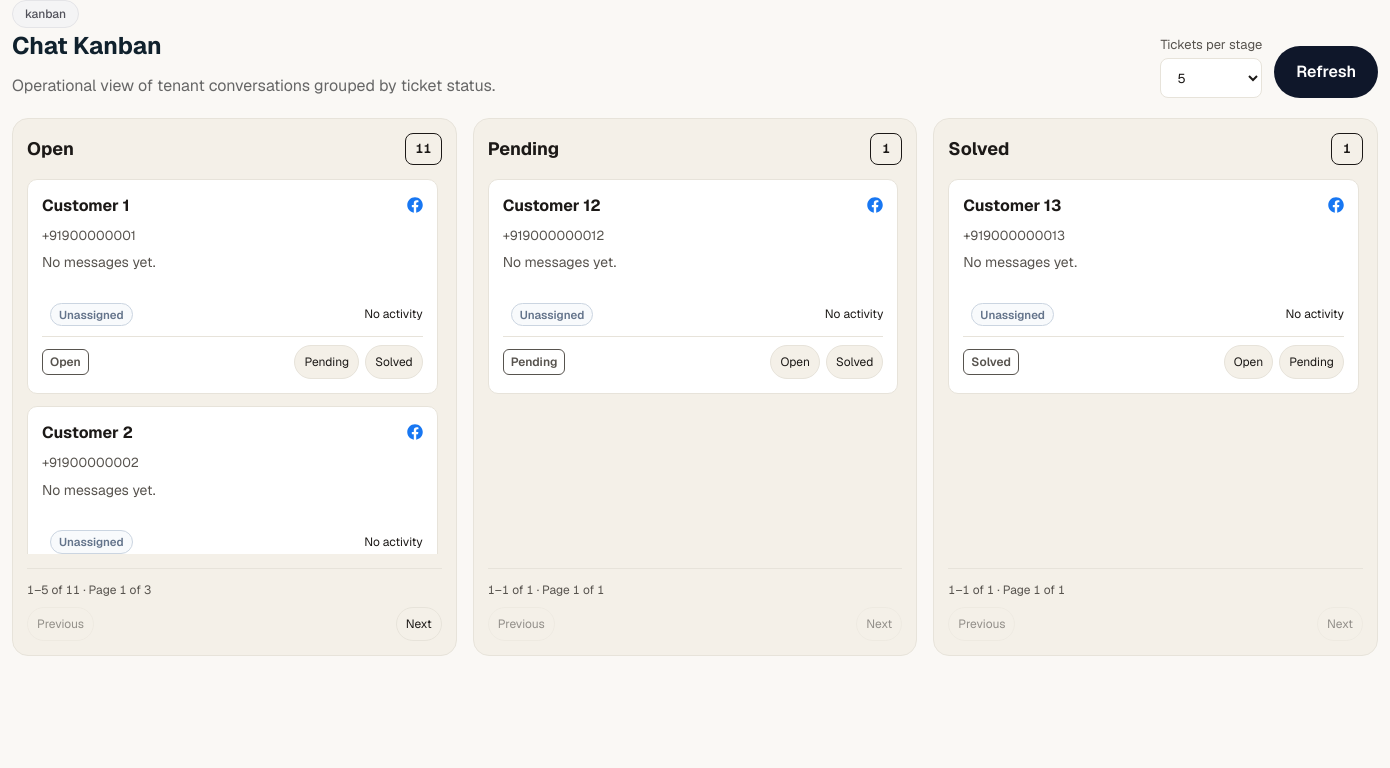
Test case: moving the last ticket clamps an emptied final page and keeps the complete order
Expected: the text "Customer 1" is shown, x1=42 y1=194 x2=130 y2=218
Click the button with aria-label "Open next page": coordinates (419, 624) x1=396 y1=607 x2=442 y2=641
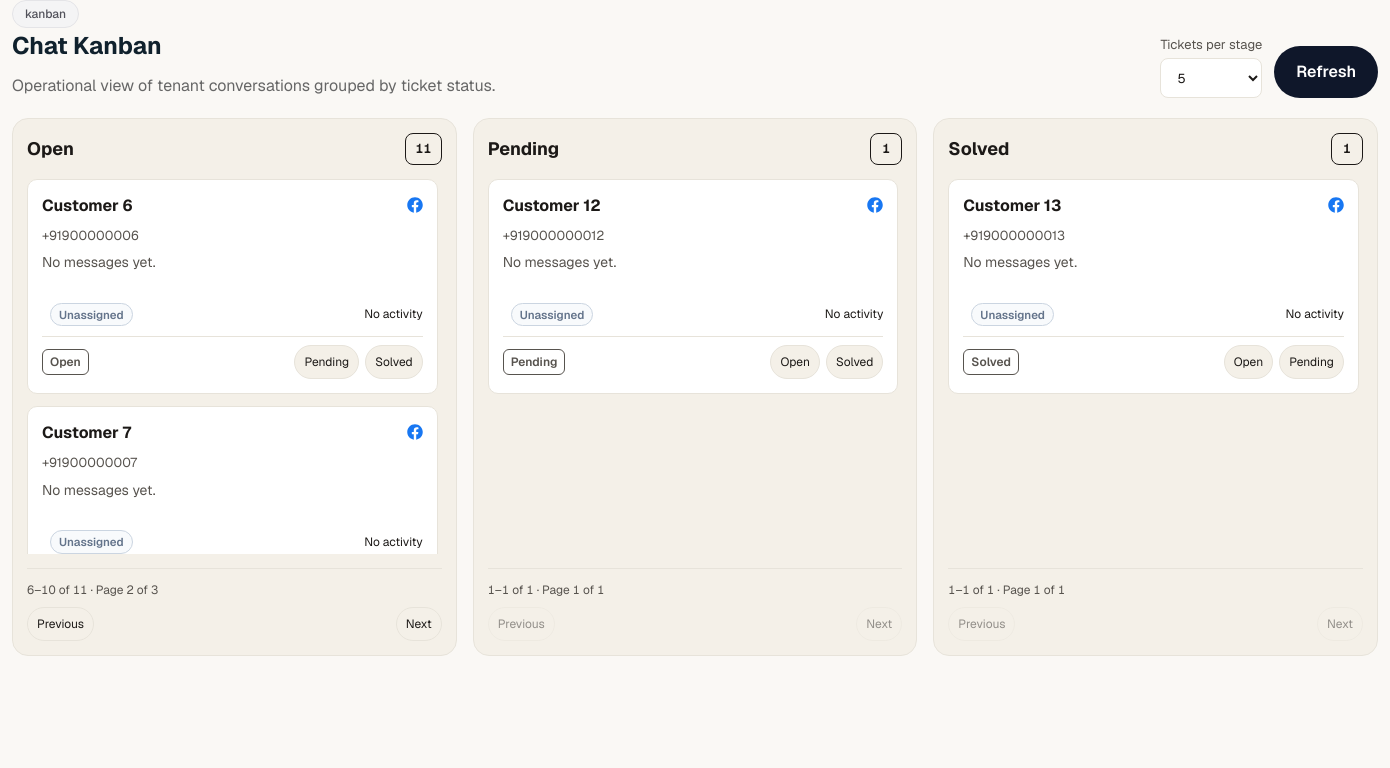
Click the button with aria-label "Open next page": coordinates (419, 624) x1=396 y1=607 x2=442 y2=641
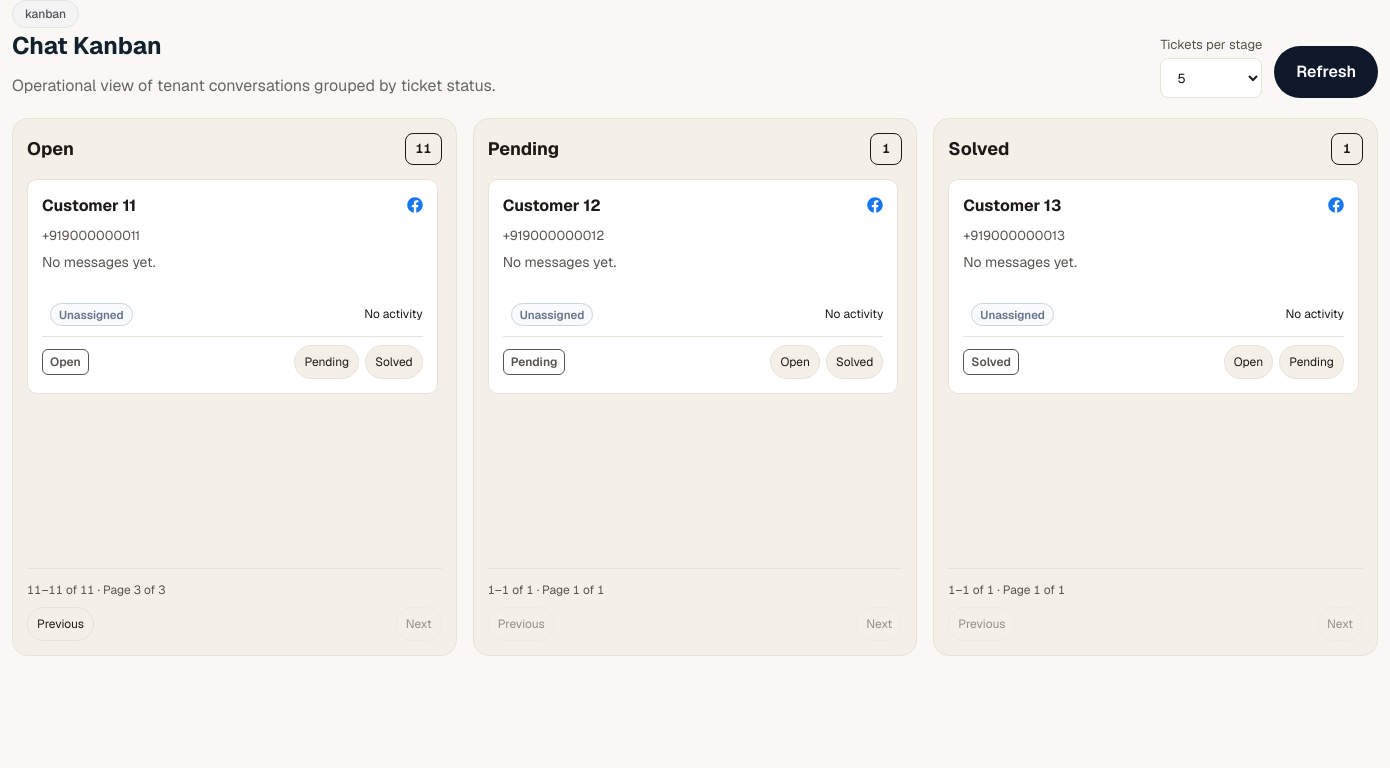
Click the button with aria-label "Move Customer 11 to Solved": coordinates (394, 362) x1=365 y1=345 x2=423 y2=379
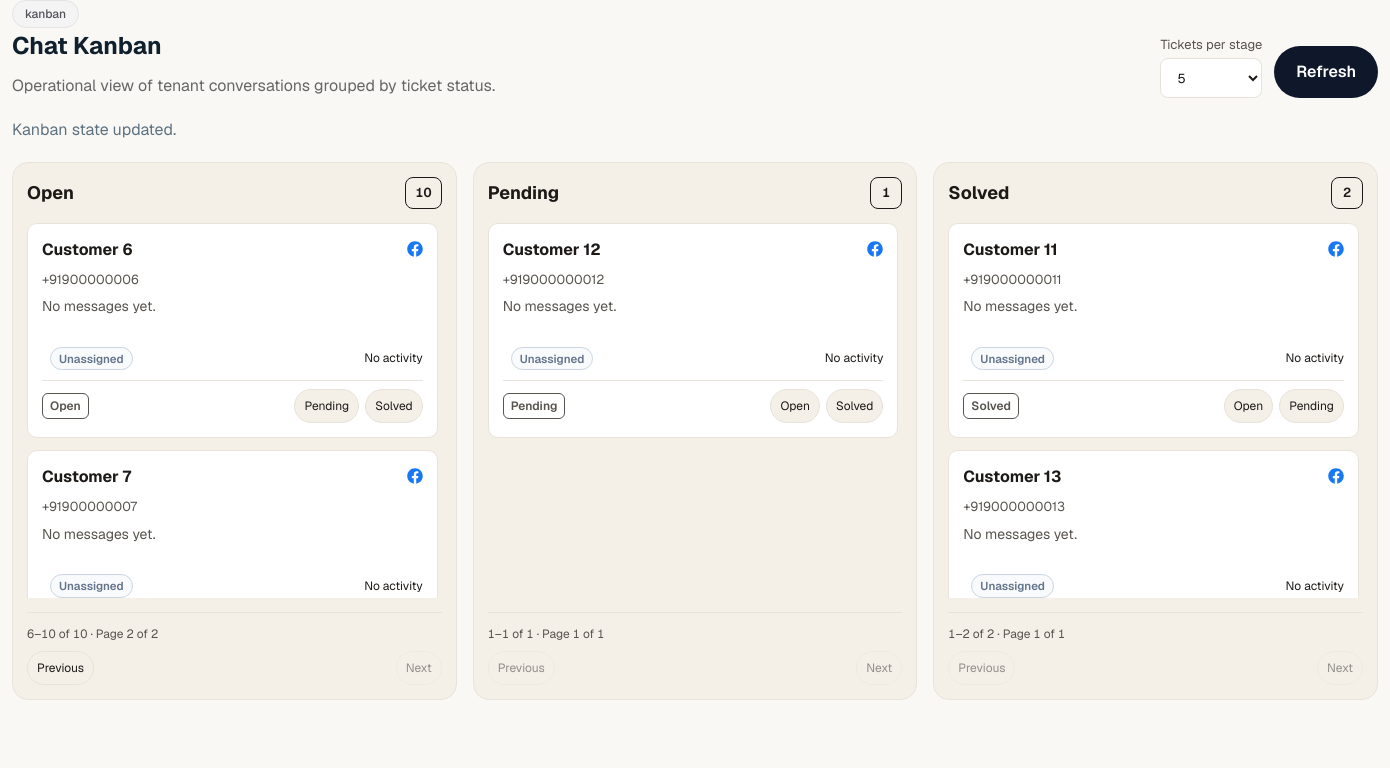
Expected: the text "Customer 11" is shown, x1=963 y1=238 x2=1058 y2=262
Expected: the text "Customer 6" is shown, x1=42 y1=238 x2=133 y2=262
Expected: the text "6–10 of 10 · Page 2 of 2" is shown, x1=27 y1=626 x2=158 y2=642
